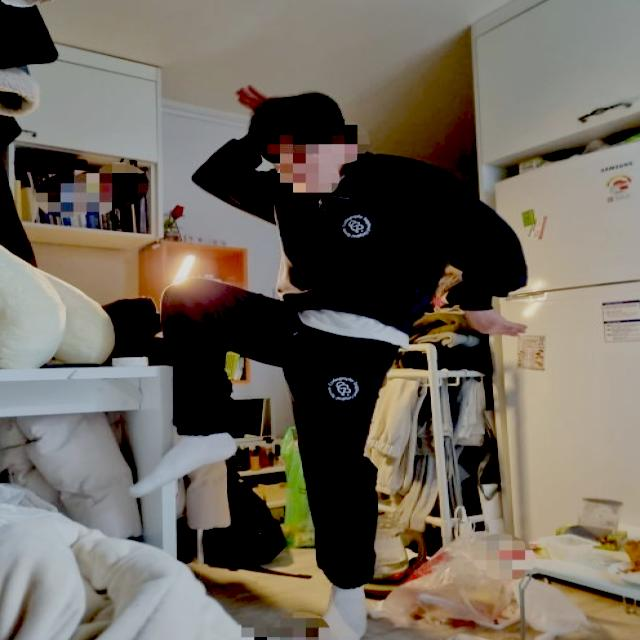mtm: (196, 131, 533, 337)
trainingpants: (166, 280, 397, 590)
